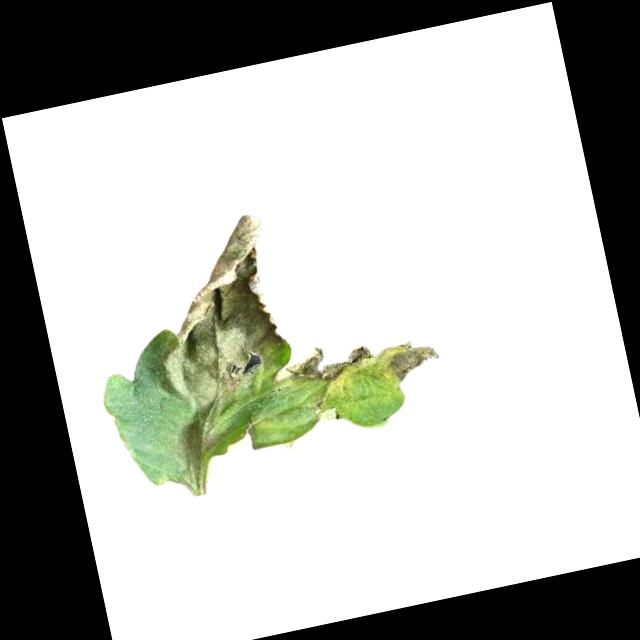Late_blight: (128, 213, 299, 419), (267, 335, 380, 406), (167, 409, 237, 490), (374, 333, 447, 385), (310, 392, 347, 426)
